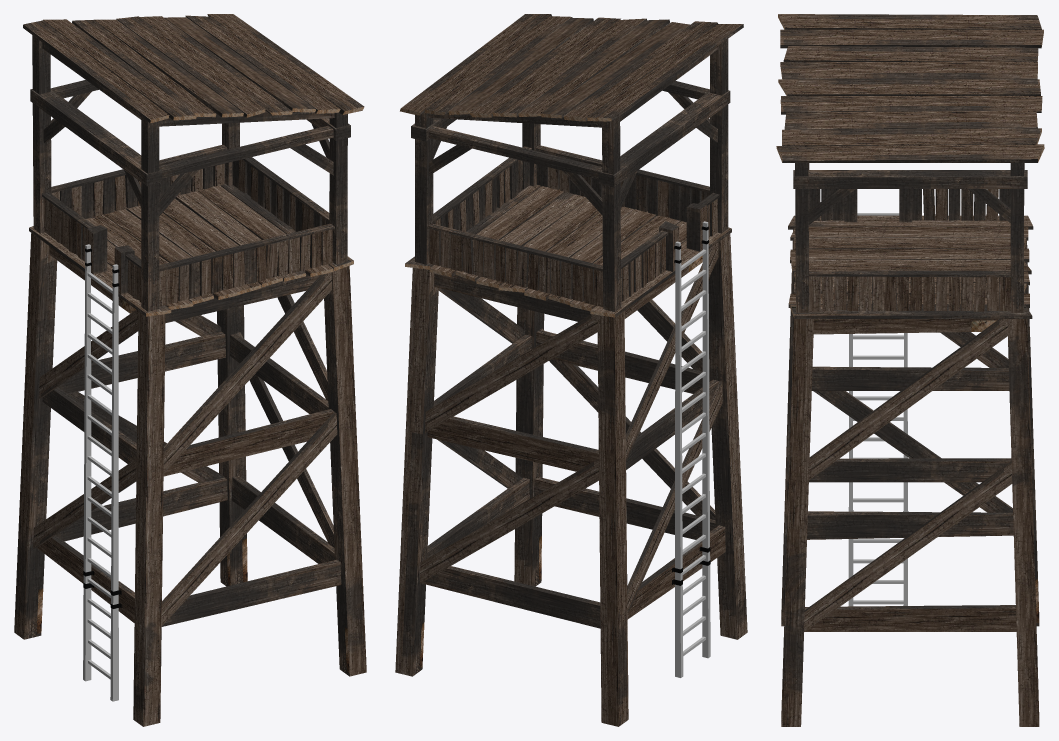
Rendered from Tower.fbx.
3 renders of one model, left to right at view 1: azimuth 30°, elevation 25°; view 2: azimuth 150°, elevation 25°; view 3: azimuth 270°, elevation 25°, orthographic.
Visible parts, largest first — view 1: Tower, Ladder; view 2: Tower, Ladder; view 3: Tower, Ladder.
Part boxes in pixels (bbox=[...]): Tower: bbox=[14, 14, 366, 726]; Ladder: bbox=[83, 244, 121, 701]; Tower: bbox=[395, 14, 747, 726]; Ladder: bbox=[672, 221, 710, 677]; Tower: bbox=[776, 14, 1044, 726]; Ladder: bbox=[848, 213, 908, 606].
Bounding box in the file's own units: 520 × 1349 × 540.
Materials: 3 (1 with a texture image).
